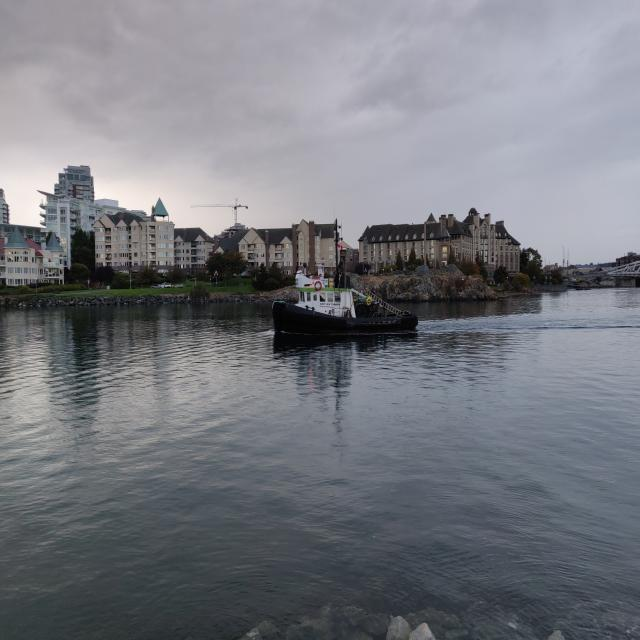boat: (272, 209, 419, 338)
